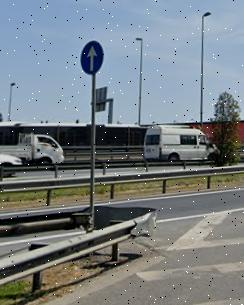forward: (82, 42, 103, 74)
